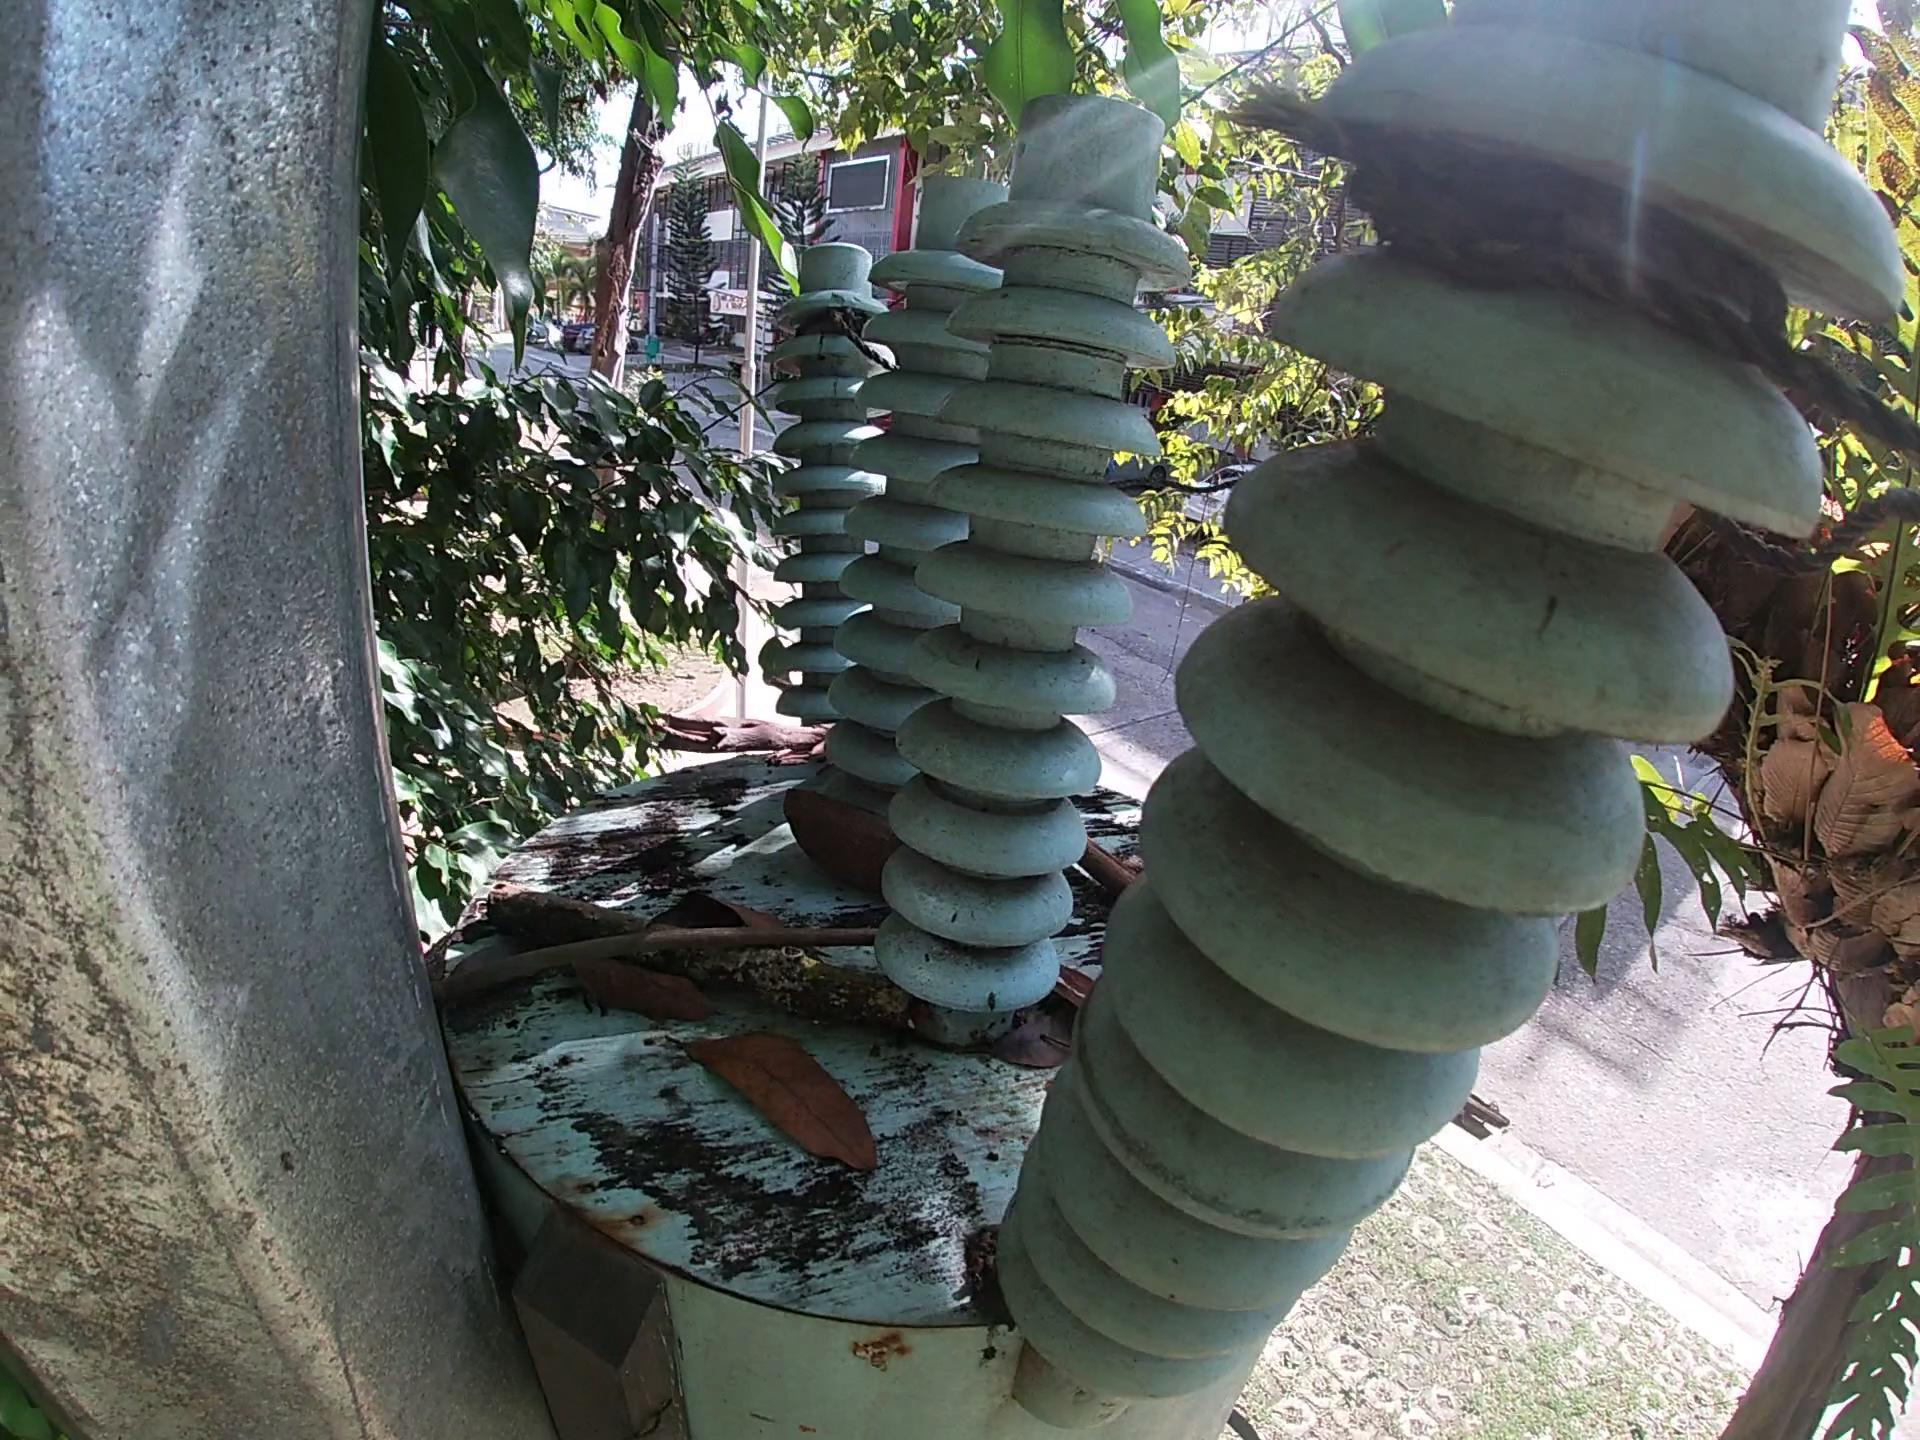leaf: (658, 1029, 889, 1180), (646, 895, 841, 968), (558, 956, 732, 1030), (960, 1013, 1087, 1085)
mahogany fruit: (777, 784, 903, 892)
tree branch: (482, 882, 912, 1038), (408, 926, 884, 1010), (639, 709, 833, 770)
